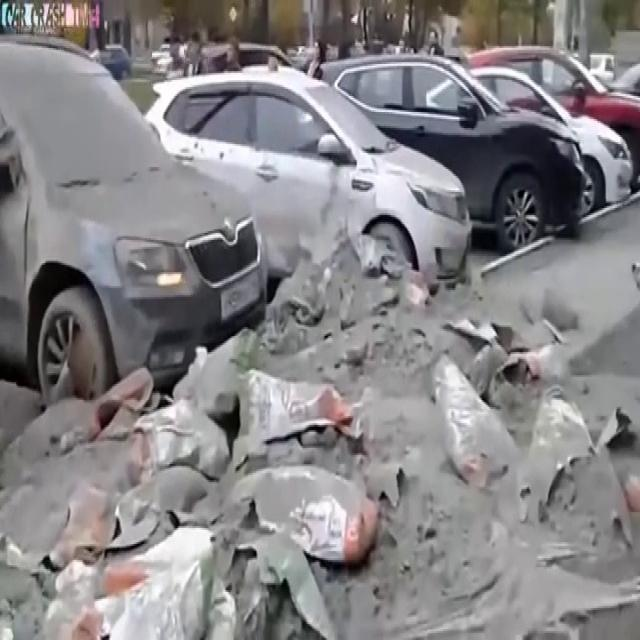accident: (10, 128, 259, 468)
